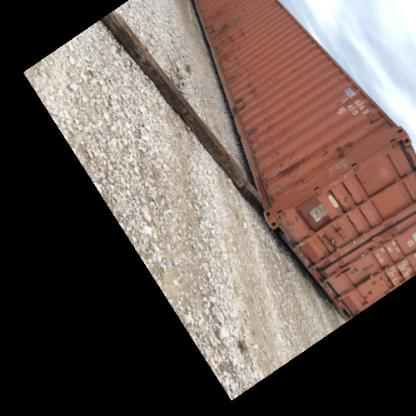Damage: (214, 28, 238, 66), (278, 154, 312, 176), (327, 138, 356, 162), (309, 254, 333, 280), (230, 95, 256, 117), (245, 122, 265, 149)
